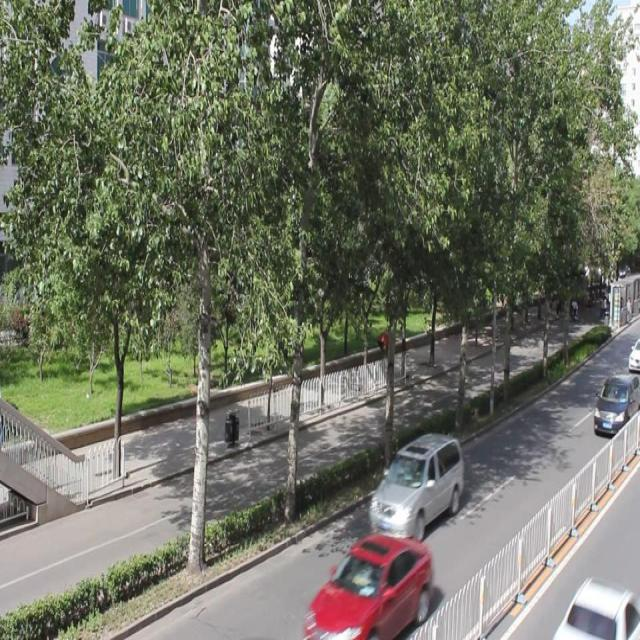car: (304, 534, 428, 640), (369, 433, 462, 535), (592, 373, 640, 435)
